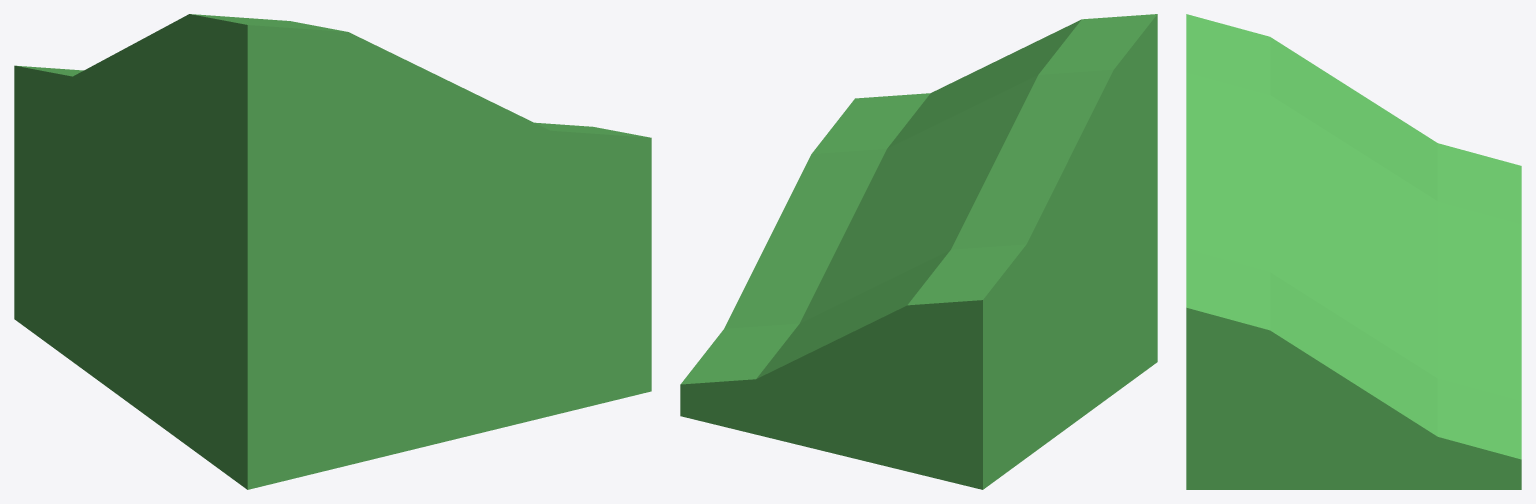
The model's file is Hill_Side_On_Side.glb.
3 views of the same model, side by side, from view 1: azimuth 30°, elevation 25°; view 2: azimuth 150°, elevation 25°; view 3: azimuth 270°, elevation 25° (orthographic). The views are drawn at different scales.
Visible parts, largest first — view 1: object1; view 2: object1; view 3: object1.
Boxes of the visible parts, box(x1,y1,x2,y2) form: object1: box(14, 14, 651, 489); object1: box(680, 14, 1157, 489); object1: box(1186, 14, 1521, 489).
Size of the model in its own units: 2 by 2.2 by 2.
